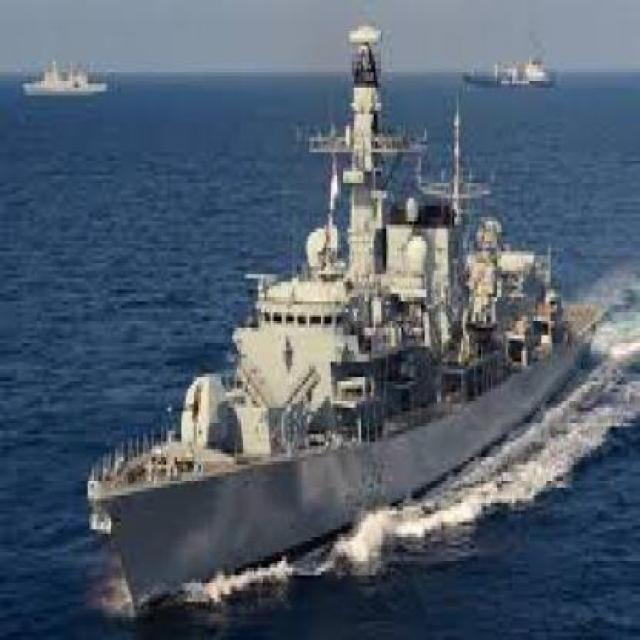warship2: (86, 13, 607, 627)
